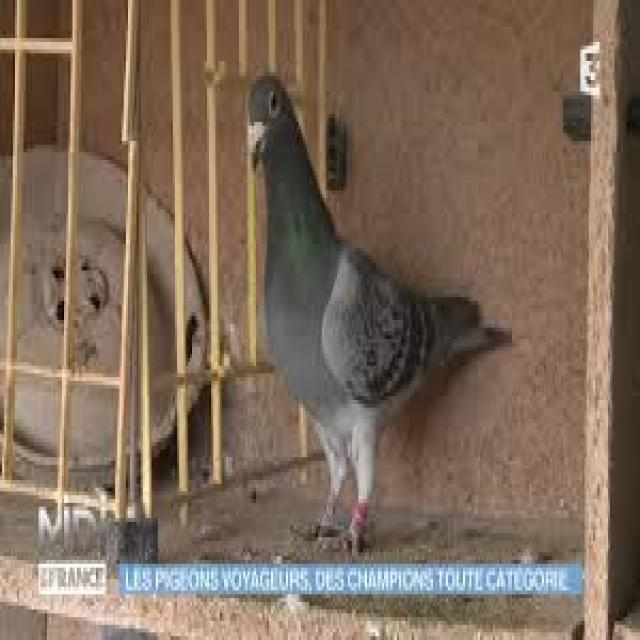pigeon: (234, 63, 522, 529)
